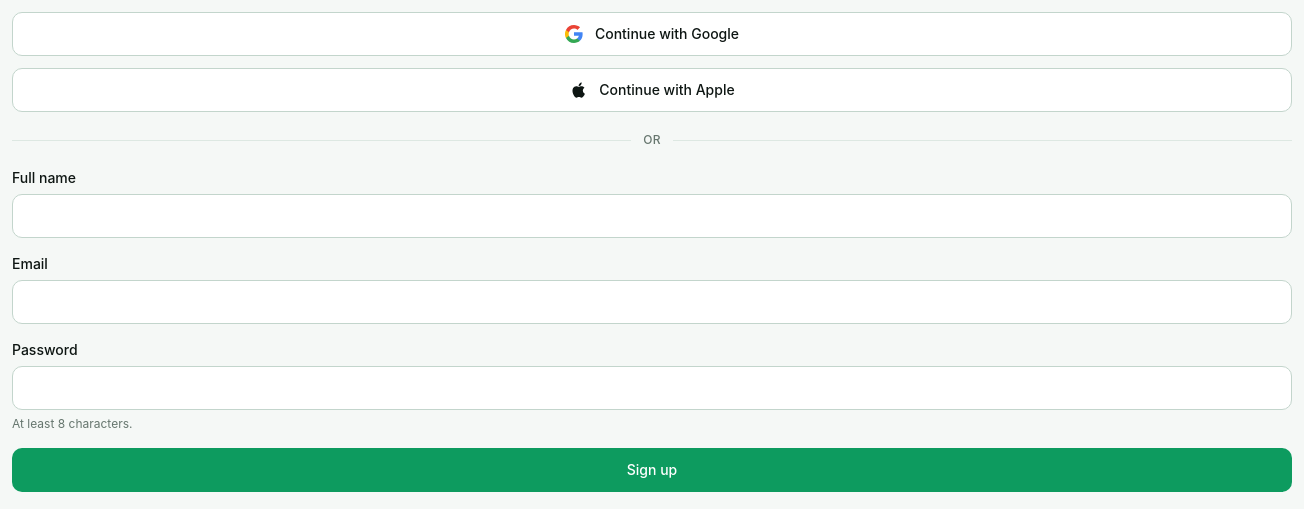
SignupForm — already-registered handling › offers a sign-in path instead of the raw "User already registered"
The width and height of the screenshot is (1304, 509).
In the field labelled "Full name": (652,216) [12,194,1292,238], type "Karim Benali"
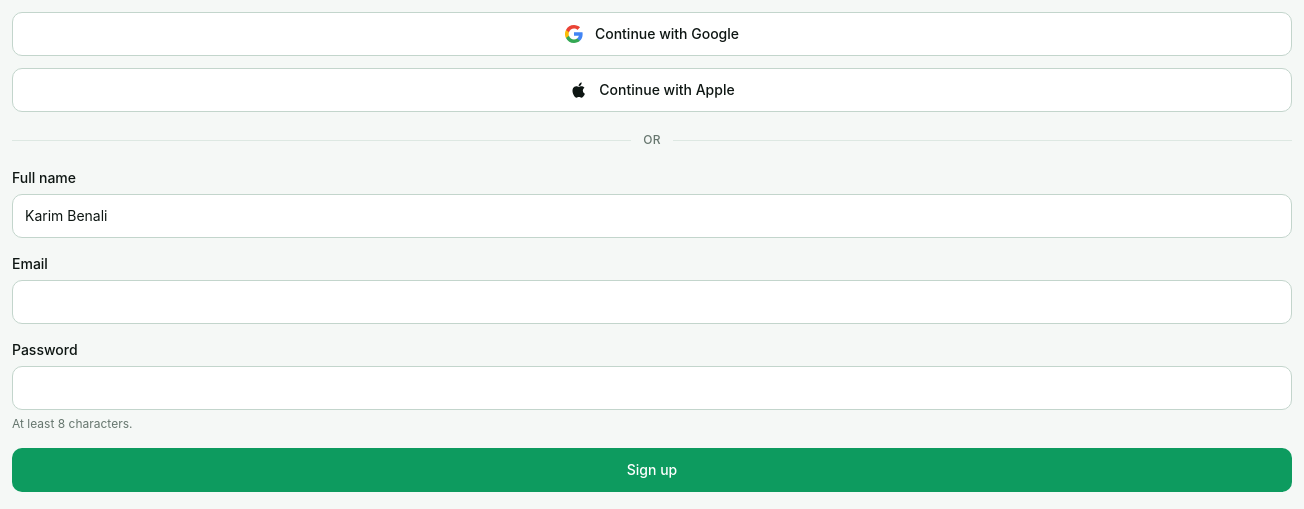
In the field labelled "Email": (652,302) [12,280,1292,324], type "karim@fadecity.fr"
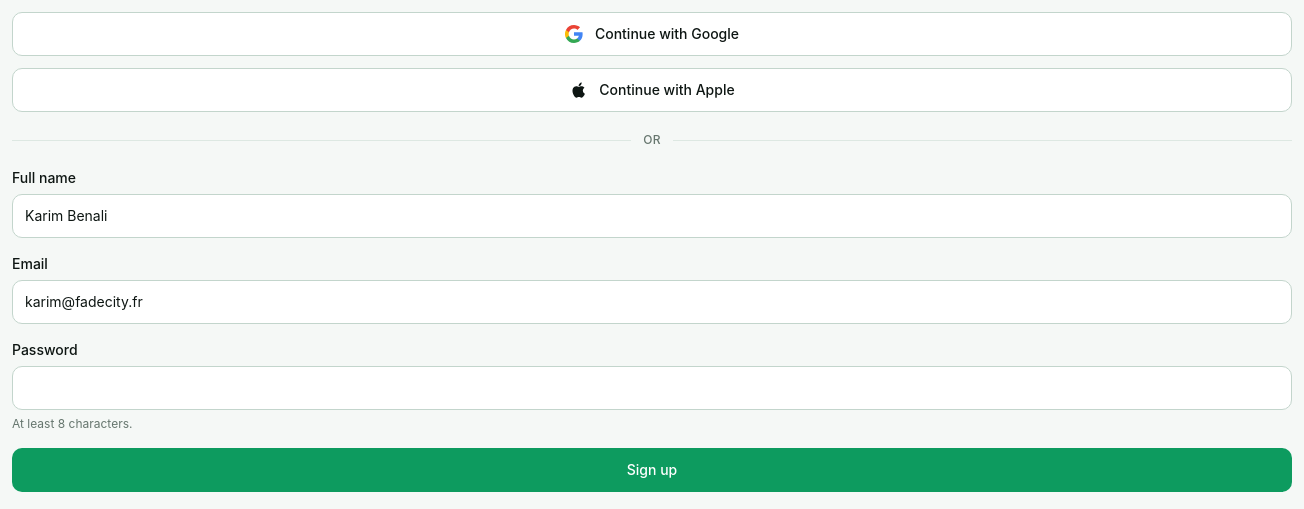
In the password field labelled "Password": (652,388) [12,366,1292,410], type "correct-horse-battery"
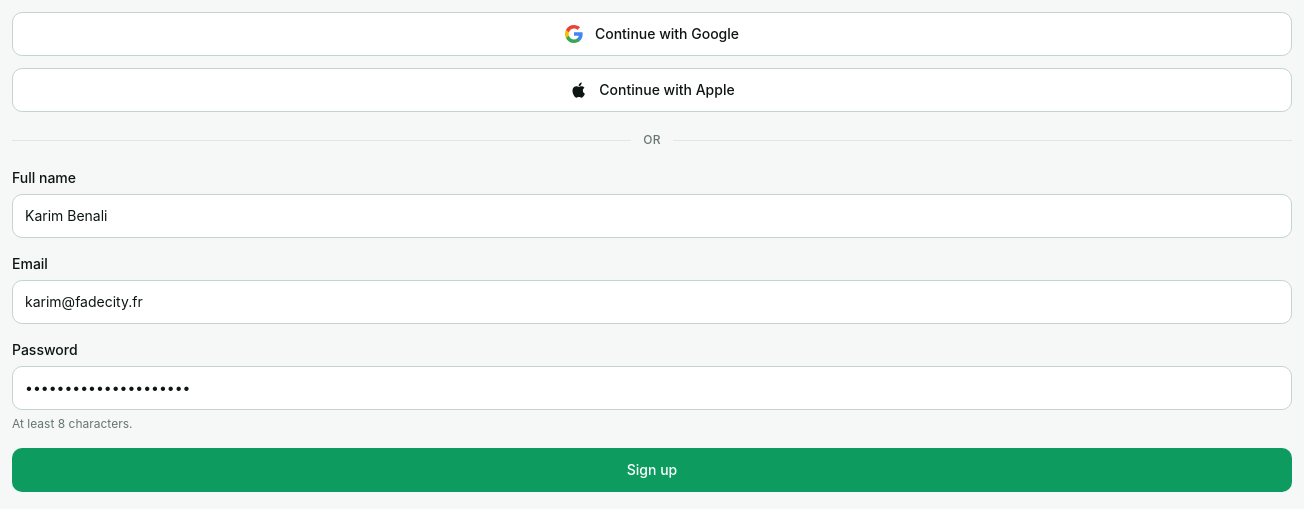
Submit the form from the button "Sign up", box [12,448,1292,492]
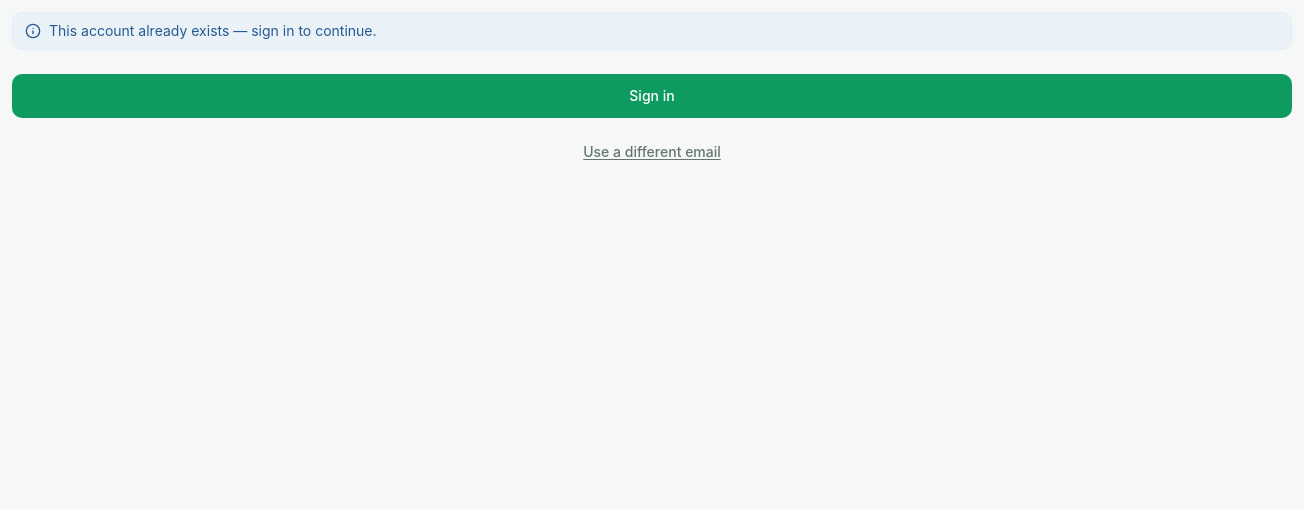
Now the text "This account already exists — sign in to continue." is shown, box [49,21,377,41]
Now the link "Sign in" is shown, box [12,74,1292,118]
